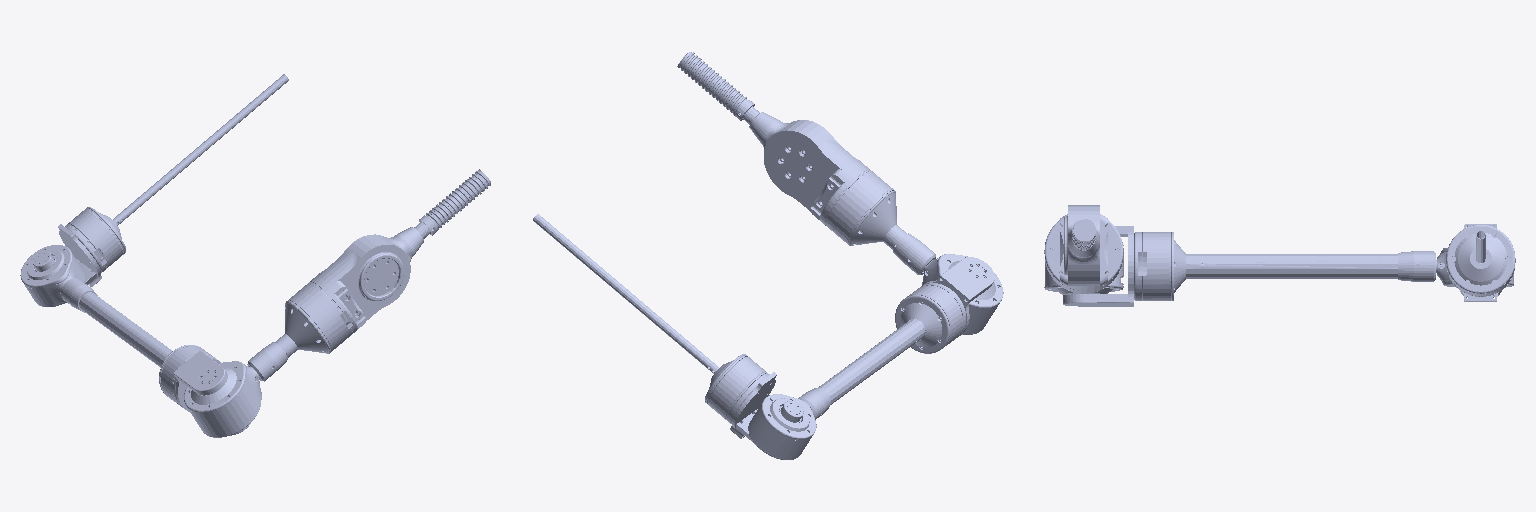
robot.urdf — URDF_Model_22-02-28:
<?xml version="1.0" encoding="utf-8"?>
<!-- This URDF was automatically created by SolidWorks to URDF Exporter! Originally created by [author] ([email redacted])
     Commit Version: 1.6.0-1-g15f4949  Build Version: 1.6.7594.29634
     For more information, please see http://wiki.ros.org/sw_urdf_exporter -->
<robot
  name="URDF_Model_22-02-28">
  <link
    name="base_link">
    <inertial>
      <origin
        xyz="-0.15602 -2.919 0.5076"
        rpy="0 0 0" />
      <mass
        value="195.22" />
      <inertia
        ixx="146.42"
        ixy="-16.934"
        ixz="-0.5147"
        iyy="158.68"
        iyz="-1.5782"
        izz="301.55" />
    </inertial>
    <visual>
      <origin
        xyz="0 0 0"
        rpy="0 0 0" />
      <geometry>
        <mesh
          filename="../meshes/base_link.obj" />
      </geometry>
      <material
        name="">
        <color
          rgba="0.79216 0.81961 0.93333 1" />
      </material>
    </visual>
    <collision>
      <origin
        xyz="0 0 0"
        rpy="0 0 0" />
      <geometry>
        <mesh
          filename="../meshes/base_link.obj" />
      </geometry>
    </collision>
  </link>
  <link
    name="Firobjink">
    <inertial>
      <origin
        xyz="-1.1799 0.3577 1.368"
        rpy="0 0 0" />
      <mass
        value="195.22" />
      <inertia
        ixx="146.42"
        ixy="-0.5147"
        ixz="16.934"
        iyy="301.55"
        iyz="1.5782"
        izz="158.68" />
    </inertial>
    <visual>
      <origin
        xyz="0 0 0"
        rpy="0 0 0" />
      <geometry>
        <mesh
          filename="../meshes/Firobjink.obj" />
      </geometry>
      <material
        name="">
        <color
          rgba="0.79216 0.81961 0.93333 1" />
      </material>
    </visual>
    <collision>
      <origin
        xyz="0 0 0"
        rpy="0 0 0" />
      <geometry>
        <mesh
          filename="../meshes/Firobjink.obj" />
      </geometry>
    </collision>
  </link>
  <joint
    name="J1"
    type="prismatic">
    <origin
      xyz="1.0238854350711 -1.55099999999999 0.1499044295972"
      rpy="1.5707963267949 0 0" />
    <parent
      link="base_link" />
    <child
      link="Firobjink" />
    <axis
      xyz="-1 0 0" />
    <limit
      lower="0"
      upper="0"
      effort="0"
      velocity="0" />
  </joint>
  <link
    name="Secondlink">
    <inertial>
      <origin
        xyz="0.211990772854572 -0.00730432715233398 -0.6454843568912"
        rpy="0 0 0" />
      <mass
        value="195.222198556067" />
      <inertia
        ixx="146.424405806793"
        ixy="-0.514695231402459"
        ixz="16.933990275106"
        iyy="301.553722475034"
        iyz="1.57818445418204"
        izz="158.679413231981" />
    </inertial>
    <visual>
      <origin
        xyz="0 0 0"
        rpy="0 0 0" />
      <geometry>
        <mesh
          filename="../meshes/Secondlink.obj" />
      </geometry>
      <material
        name="">
        <color
          rgba="0.792156862745098 0.819607843137255 0.933333333333333 1" />
      </material>
    </visual>
    <collision>
      <origin
        xyz="0 0 0"
        rpy="0 0 0" />
      <geometry>
        <mesh
          filename="../meshes/Secondlink.obj" />
      </geometry>
    </collision>
  </link>
  <joint
    name="J2"
    type="continuous">
    <origin
      xyz="-1.39189794651184 0.365000000478744 2.01349997543614"
      rpy="0 0 0" />
    <parent
      link="Firobjink" />
    <child
      link="Secondlink" />
    <axis
      xyz="0 0 1" />
  </joint>
  <link
    name="Thirdlink">
    <inertial>
      <origin
        xyz="0.351063214375461 0.07298918439661 -0.694484381880002"
        rpy="0 0 0" />
      <mass
        value="195.222198556067" />
      <inertia
        ixx="146.424405806793"
        ixy="-0.514695231402459"
        ixz="16.933990275106"
        iyy="301.553722475034"
        iyz="1.57818445418204"
        izz="158.679413231981" />
    </inertial>
    <visual>
      <origin
        xyz="0 0 0"
        rpy="0 0 0" />
      <geometry>
        <mesh
          filename="../meshes/Thirdlink.obj" />
      </geometry>
      <material
        name="">
        <color
          rgba="0.792156862745098 0.819607843137255 0.933333333333333 1" />
      </material>
    </visual>
    <collision>
      <origin
        xyz="0 0 0"
        rpy="0 0 0" />
      <geometry>
        <mesh
          filename="../meshes/Thirdlink.obj" />
      </geometry>
    </collision>
  </link>
  <joint
    name="J3"
    type="continuous">
    <origin
      xyz="-0.139072441520889 -0.080293511548944 0.0490000249888016"
      rpy="0 0 0" />
    <parent
      link="Secondlink" />
    <child
      link="Thirdlink" />
    <axis
      xyz="0.866025403784425 0.500000000000024 0" />
  </joint>
  <link
    name="Fourthlink">
    <inertial>
      <origin
        xyz="0.464870190757157 0.138695672846245 -0.694484381880006"
        rpy="0 0 0" />
      <mass
        value="195.222198556067" />
      <inertia
        ixx="146.424405806793"
        ixy="-0.514695231402459"
        ixz="16.933990275106"
        iyy="301.553722475034"
        iyz="1.57818445418204"
        izz="158.679413231981" />
    </inertial>
    <visual>
      <origin
        xyz="0 0 0"
        rpy="0 0 0" />
      <geometry>
        <mesh
          filename="../meshes/Fourthlink.obj" />
      </geometry>
      <material
        name="">
        <color
          rgba="0.792156862745098 0.819607843137255 0.933333333333333 1" />
      </material>
    </visual>
    <collision>
      <origin
        xyz="0 0 0"
        rpy="0 0 0" />
      <geometry>
        <mesh
          filename="../meshes/Fourthlink.obj" />
      </geometry>
    </collision>
  </link>
  <joint
    name="J4"
    type="continuous">
    <origin
      xyz="-0.113806976381696 -0.0657064884496346 0"
      rpy="0 0 0" />
    <parent
      link="Thirdlink" />
    <child
      link="Fourthlink" />
    <axis
      xyz="-0.500000000000022 0.866025403784426 0" />
  </joint>
  <link
    name="Fifthlink">
    <inertial>
      <origin
        xyz="0.464665360686032 0.139050448936402 -0.305484407029091"
        rpy="0 0 0" />
      <mass
        value="195.222198556067" />
      <inertia
        ixx="146.424405806793"
        ixy="-0.514695231402459"
        ixz="16.933990275106"
        iyy="301.553722475034"
        iyz="1.57818445418204"
        izz="158.679413231981" />
    </inertial>
    <visual>
      <origin
        xyz="0 0 0"
        rpy="0 0 0" />
      <geometry>
        <mesh
          filename="../meshes/Fifthlink.obj" />
      </geometry>
      <material
        name="">
        <color
          rgba="0.792156862745098 0.819607843137255 0.933333333333333 1" />
      </material>
    </visual>
    <collision>
      <origin
        xyz="0 0 0"
        rpy="0 0 0" />
      <geometry>
        <mesh
          filename="../meshes/Fifthlink.obj" />
      </geometry>
    </collision>
  </link>
  <joint
    name="J5"
    type="continuous">
    <origin
      xyz="0.000204830071124262 -0.000354776090157438 -0.388999974850916"
      rpy="0 0 0" />
    <parent
      link="Fourthlink" />
    <child
      link="Fifthlink" />
    <axis
      xyz="0 0 -1" />
  </joint>
  <link
    name="Sixthlink">
    <inertial>
      <origin
        xyz="0.464665360686032 0.139050448936402 -0.305484407029091"
        rpy="0 0 0" />
      <mass
        value="195.222198556067" />
      <inertia
        ixx="146.424405806793"
        ixy="-0.514695231402459"
        ixz="16.933990275106"
        iyy="301.553722475034"
        iyz="1.57818445418204"
        izz="158.679413231981" />
    </inertial>
    <visual>
      <origin
        xyz="0 0 0"
        rpy="0 0 0" />
      <geometry>
        <mesh
          filename="../meshes/Sixthlink.obj" />
      </geometry>
      <material
        name="">
        <color
          rgba="0.792156862745098 0.819607843137255 0.933333333333333 1" />
      </material>
    </visual>
    <collision>
      <origin
        xyz="0 0 0"
        rpy="0 0 0" />
      <geometry>
        <mesh
          filename="../meshes/Sixthlink.obj" />
      </geometry>
    </collision>
  </link>
  <joint
    name="J6"
    type="continuous">
    <origin
      xyz="0 0 0"
      rpy="0 0 0" />
    <parent
      link="Fifthlink" />
    <child
      link="Sixthlink" />
    <axis
      xyz="0.5 -0.86603 -1" />
  </joint>
</robot>

--- Facts derived from the render (not from the file) ---
The picture shows the robot from 3 angles, left to right: view 1: azimuth 30°, elevation 25°; view 2: azimuth 150°, elevation 25°; view 3: azimuth 270°, elevation 25°; orthographic projection.
Model URDF_Model_22-02-28 with 7 links and 6 joints (5 continuous, 1 prismatic), rooted at base_link, posed every joint at zero.
Visible links, largest first — view 1: Secondlink, Fourthlink, Sixthlink, Thirdlink, Fifthlink; view 2: Secondlink, Fourthlink, Sixthlink, Fifthlink, Thirdlink; view 3: Fourthlink, Secondlink, Sixthlink, Fifthlink, Thirdlink.
Link boxes in pixels (<box>): Secondlink: <box>249,169,490,380</box>; Fourthlink: <box>79,292,250,435</box>; Sixthlink: <box>58,74,288,280</box>; Thirdlink: <box>184,342,287,437</box>; Fifthlink: <box>20,245,98,312</box>; Secondlink: <box>677,52,935,271</box>; Fourthlink: <box>818,257,994,404</box>; Sixthlink: <box>533,214,776,431</box>; Fifthlink: <box>733,388,830,459</box>; Thirdlink: <box>893,233,1003,334</box>; Fourthlink: <box>1063,226,1442,306</box>; Secondlink: <box>1044,205,1123,293</box>; Sixthlink: <box>1446,224,1515,300</box>; Fifthlink: <box>1398,248,1513,301</box>; Thirdlink: <box>1044,245,1123,294</box>.
Bounding box of the posed robot: 0.5021 × 0.584 × 0.3201 m (x, y, z).
Meshes: 7 distinct files referenced, 5 mesh visuals loaded (5 OBJ); not drawn: 2 (reference not matched to a file when rendering).